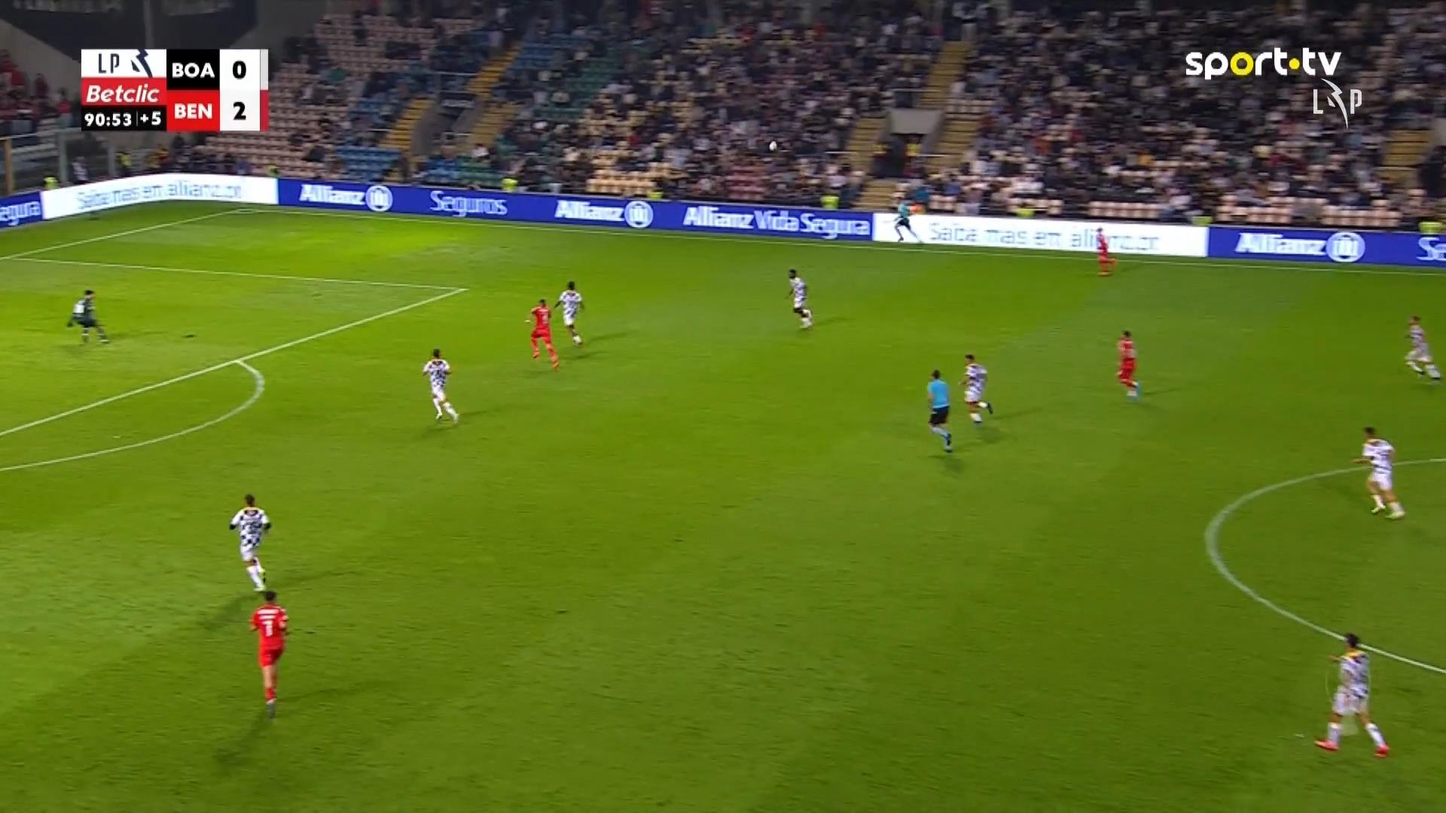ball: (769, 141, 777, 151)
goalkeeper: (66, 288, 109, 344)
player: (1313, 632, 1390, 757), (249, 589, 290, 718), (1350, 425, 1405, 519), (228, 493, 272, 592), (421, 348, 459, 425), (1402, 313, 1442, 380), (524, 297, 559, 370), (958, 352, 993, 423), (555, 280, 585, 346), (1115, 328, 1140, 398), (786, 267, 813, 329), (1093, 226, 1116, 276)
referee: (925, 368, 953, 452), (892, 198, 922, 242)
